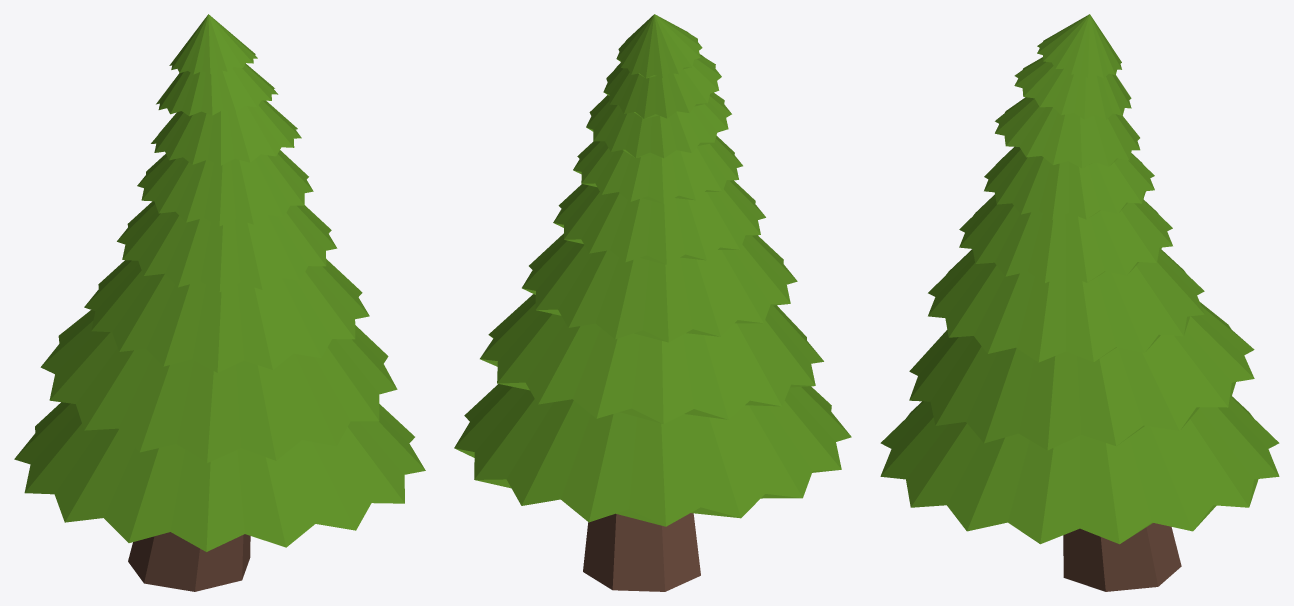
Rendered from TREE.fbx.
The picture shows the model from 3 angles, left to right: view 1: azimuth 30°, elevation 25°; view 2: azimuth 150°, elevation 25°; view 3: azimuth 270°, elevation 25°; orthographic projection. The views are drawn at different scales.
Parts seen in each view (by area): view 1: Cone.007; view 2: Cone.007; view 3: Cone.007.
Boxes of the visible parts, box(x1,y1,x2,y2) form: Cone.007: box(14, 14, 425, 591); Cone.007: box(454, 14, 851, 591); Cone.007: box(880, 14, 1279, 591).
Size of the model in its own units: 1081 by 1655 by 1081.
